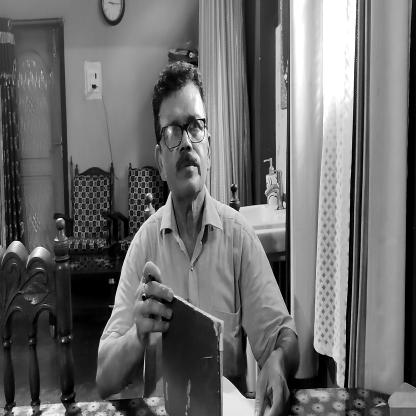Normal: (151, 57, 215, 209)
